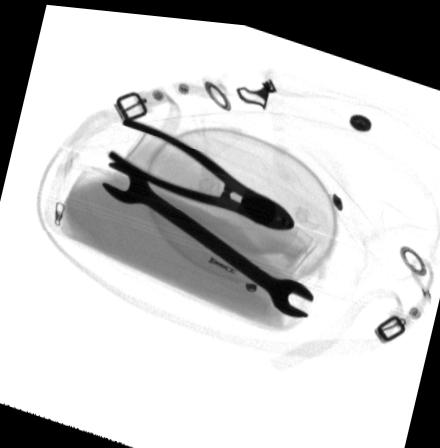Pliers: (107, 114, 296, 226)
Wrench: (100, 158, 315, 311)
